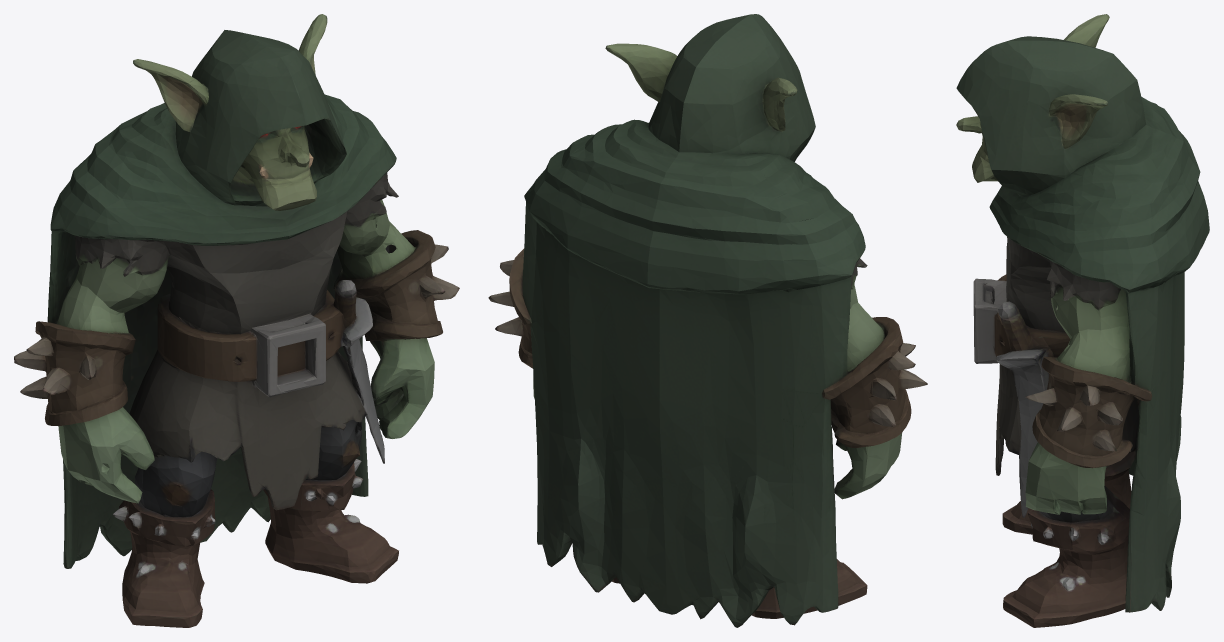
Rendered from rob_goblin.glb.
3 views of the same model, side by side, from view 1: azimuth 30°, elevation 25°; view 2: azimuth 150°, elevation 25°; view 3: azimuth 270°, elevation 25° (orthographic). The views are drawn at different scales.
Parts seen in each view (by area): view 1: world; view 2: world; view 3: world.
Part boxes in pixels (left/top/right/bottom): world: left=14, top=14, right=459, bottom=627; world: left=488, top=14, right=927, bottom=627; world: left=956, top=14, right=1209, bottom=627.
Size of the model in its own units: 0.8073 by 1 by 0.4363.
1 material, 1 textured.
